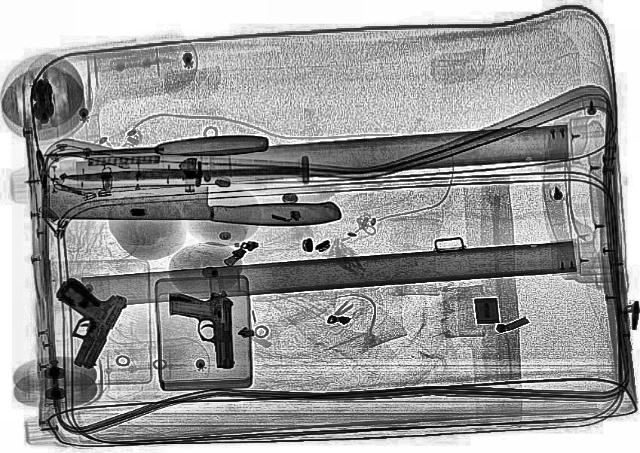Gun: (25, 274, 133, 370), (166, 290, 236, 368)
Knife: (42, 185, 340, 225), (42, 132, 268, 164), (62, 165, 300, 181)
